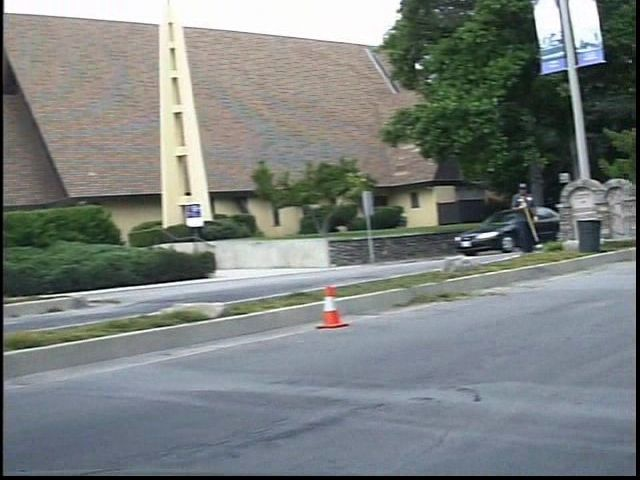person: (520, 175, 554, 256)
